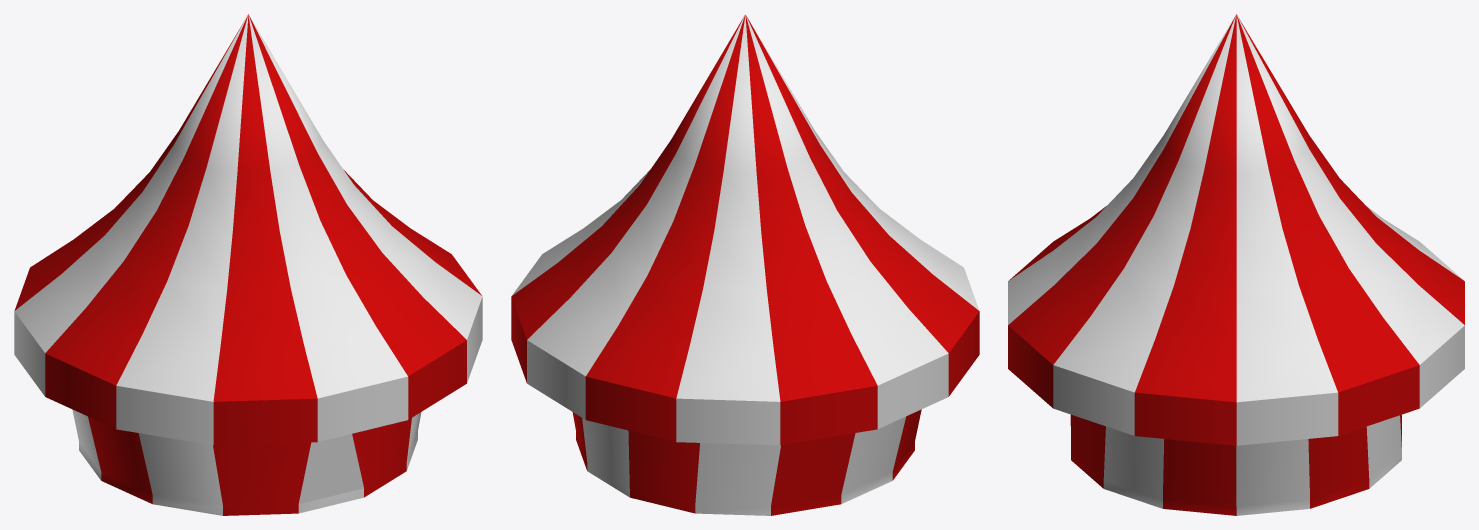
File: circus tent.fbx
3 renders of one model, left to right at view 1: azimuth 30°, elevation 25°; view 2: azimuth 150°, elevation 25°; view 3: azimuth 270°, elevation 25°, orthographic.
Visible parts, largest first — view 1: polySurface2; view 2: polySurface2; view 3: polySurface2.
Part boxes in pixels (box(x1,y1,x2,y2)): polySurface2: box(14, 14, 482, 515); polySurface2: box(511, 14, 979, 515); polySurface2: box(1008, 14, 1464, 515).
Size of the model in its own units: 11.5 by 11.64 by 11.21.
